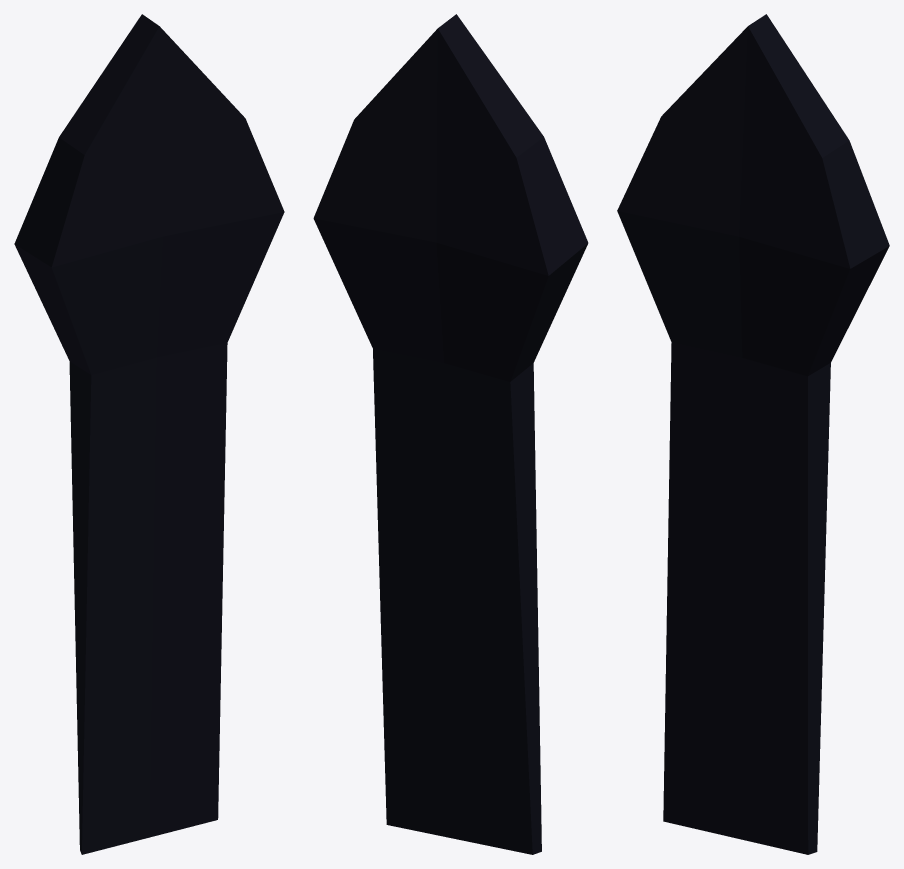
Rendered from Manecilla.obj.
3 views of the same model, side by side, from view 1: azimuth 30°, elevation 25°; view 2: azimuth 150°, elevation 25°; view 3: azimuth 330°, elevation 25° (orthographic).
Visible parts, largest first — view 1: Clock_large_hand_Cube.016; view 2: Clock_large_hand_Cube.016; view 3: Clock_large_hand_Cube.016.
Part boxes in pixels (x1=…): Clock_large_hand_Cube.016: x1=14, y1=14, x2=284, y2=854; Clock_large_hand_Cube.016: x1=313, y1=14, x2=588, y2=854; Clock_large_hand_Cube.016: x1=617, y1=14, x2=889, y2=854.
Size of the model in its own units: 0.0501 by 0.166 by 0.0145.
